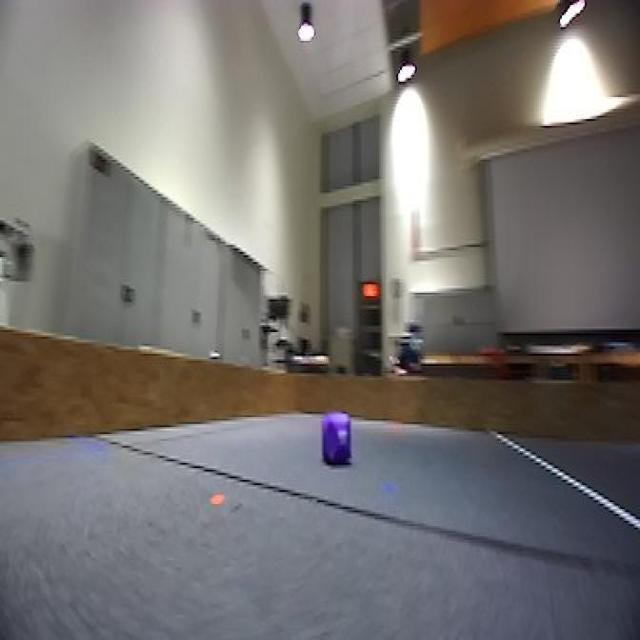frc_cube: (321, 411, 354, 466)
